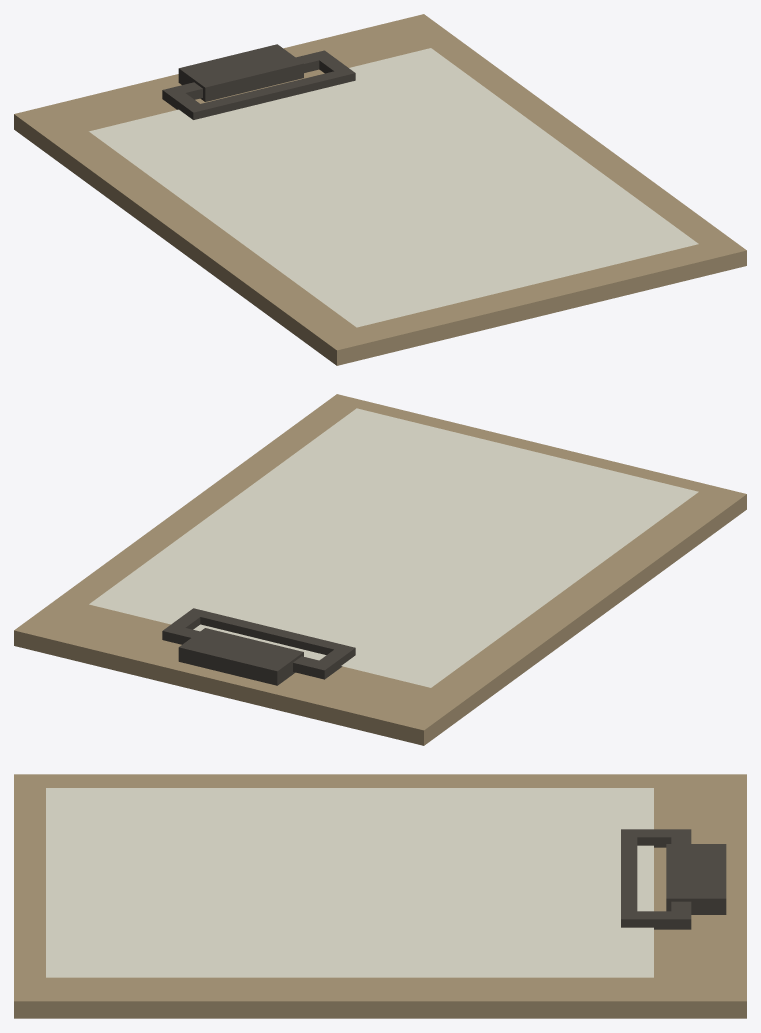
Rendered from clipboard.fbx.
3 views of the same model, one above another, from view 1: azimuth 30°, elevation 25°; view 2: azimuth 150°, elevation 25°; view 3: azimuth 270°, elevation 25° (orthographic). The views are drawn at different scales.
Parts seen in each view (by area): view 1: paper, clipboard; view 2: paper, clipboard; view 3: paper, clipboard.
Part boxes in pixels (bbox=[...]): paper: bbox=[89, 48, 698, 327]; clipboard: bbox=[14, 14, 746, 365]; paper: bbox=[89, 408, 698, 687]; clipboard: bbox=[14, 394, 746, 745]; paper: bbox=[46, 788, 653, 977]; clipboard: bbox=[14, 774, 746, 1018].
Bounding box in the file's own units: 34.86 × 2.43 × 47.56.
